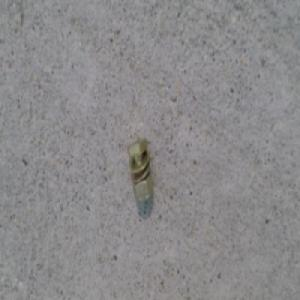BoltNutSet: (127, 138, 154, 203)
